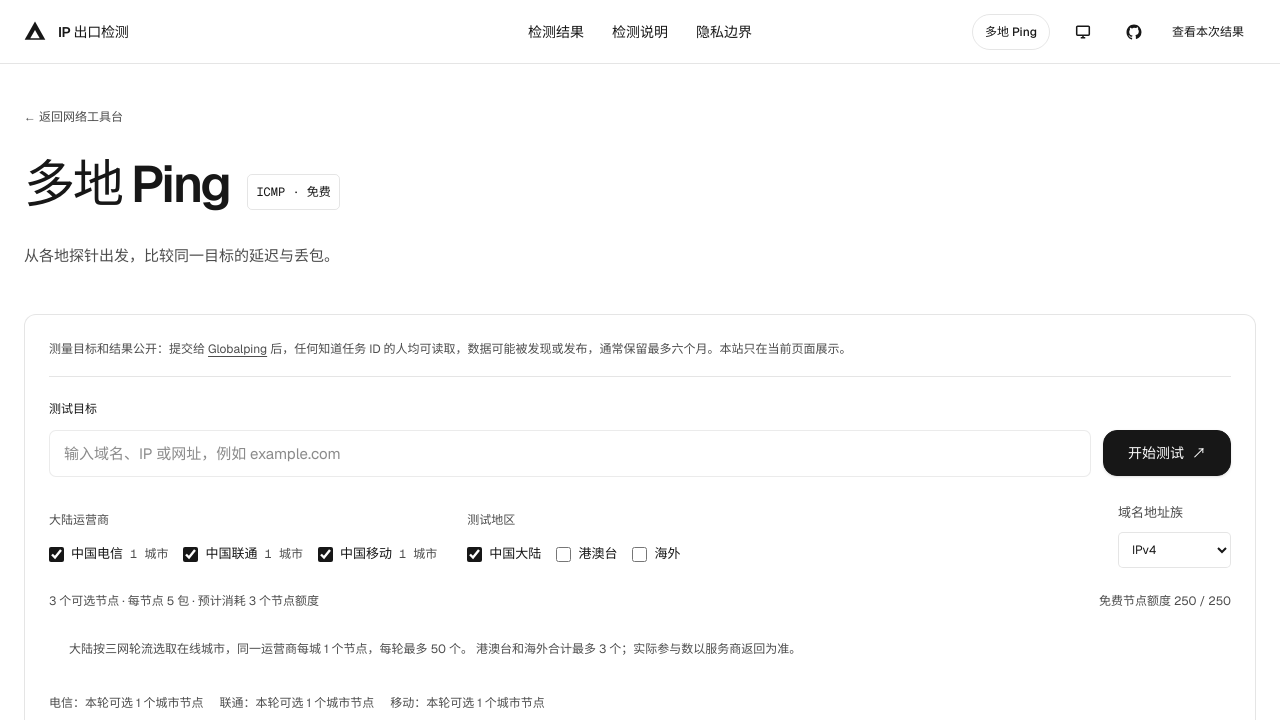
Test: 多地 Ping 独立页面 › 创建后立刻显示实际参与数，逐步展示结果且每次响应后才安排下一次读取
Expected: the text "3 个可选节点 · 每节点 5 包 · 预计消耗 3 个节点额度" is shown, x1=49 y1=590 x2=319 y2=614
Type "example.com" into the field labelled "测试目标" at (570, 454), box x1=49 y1=430 x2=1091 y2=478
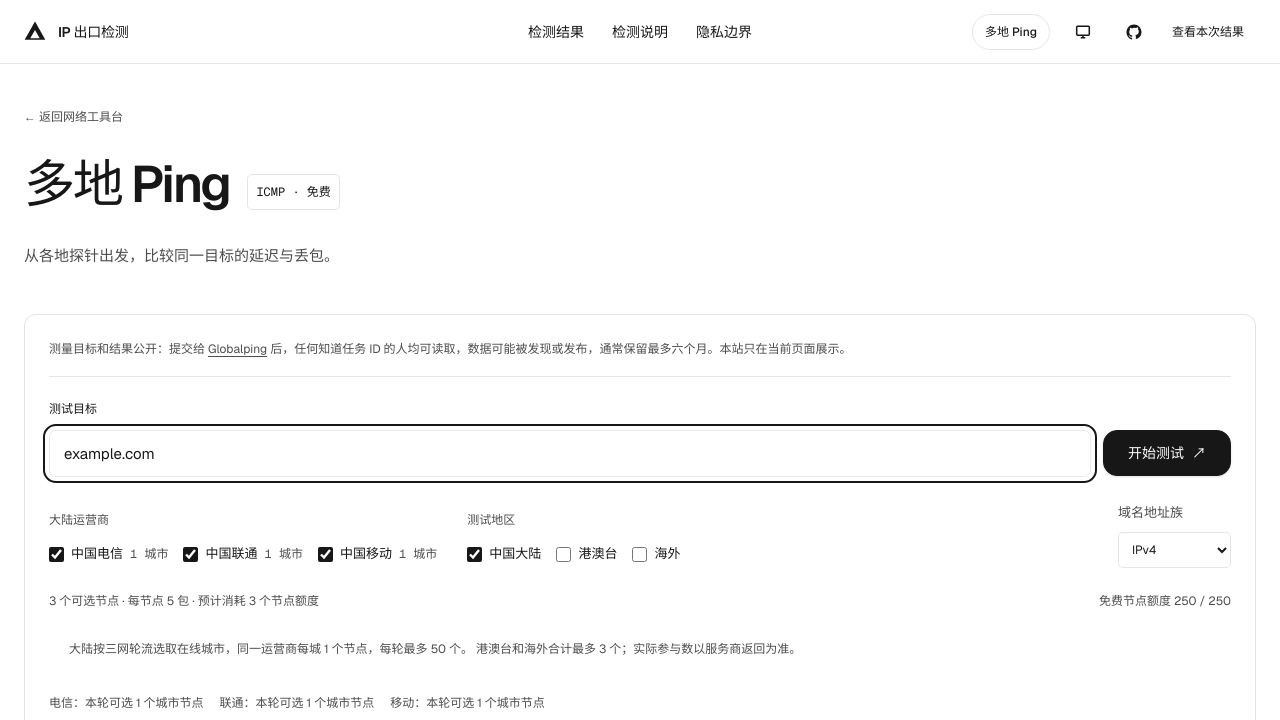
Click the button "开始测试 ↗" at (1167, 454), box x1=1103 y1=430 x2=1231 y2=476
Wait 2550 ms
(page scrolled)
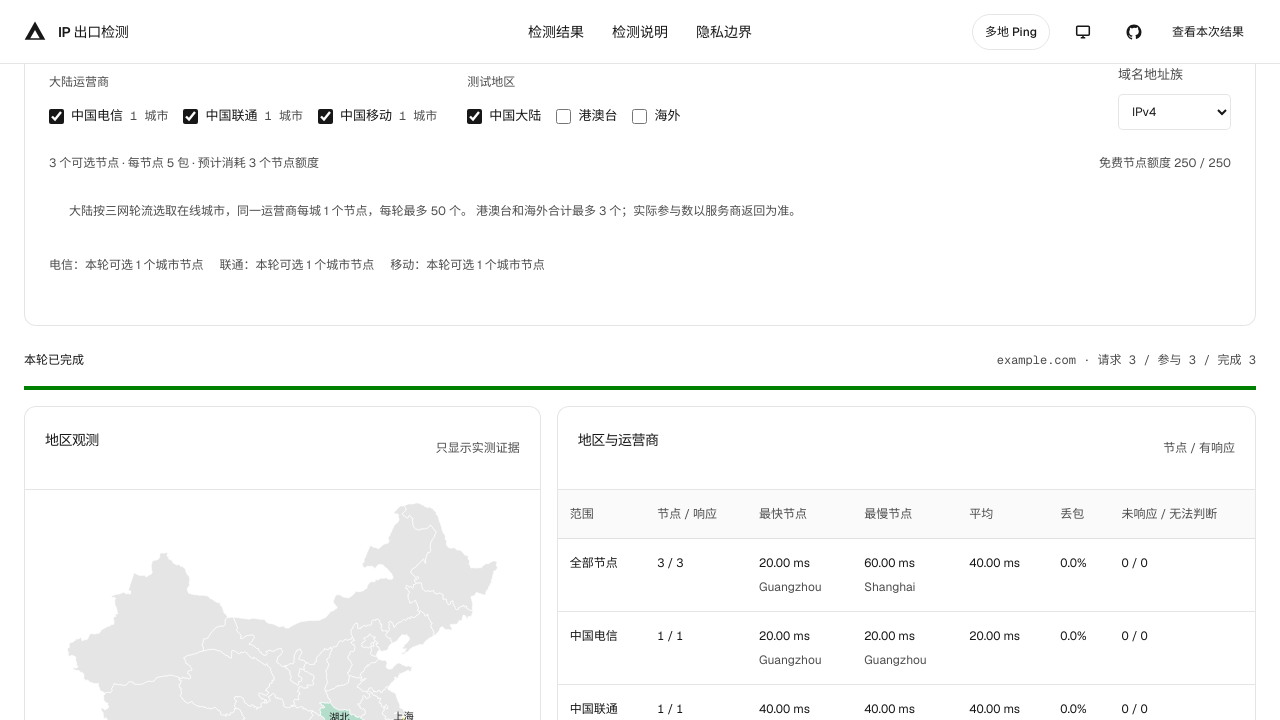
Now the message shows "参与 3", box x1=24 y1=350 x2=1256 y2=370
Now the text "本轮已完成" is shown, box x1=24 y1=350 x2=84 y2=370
